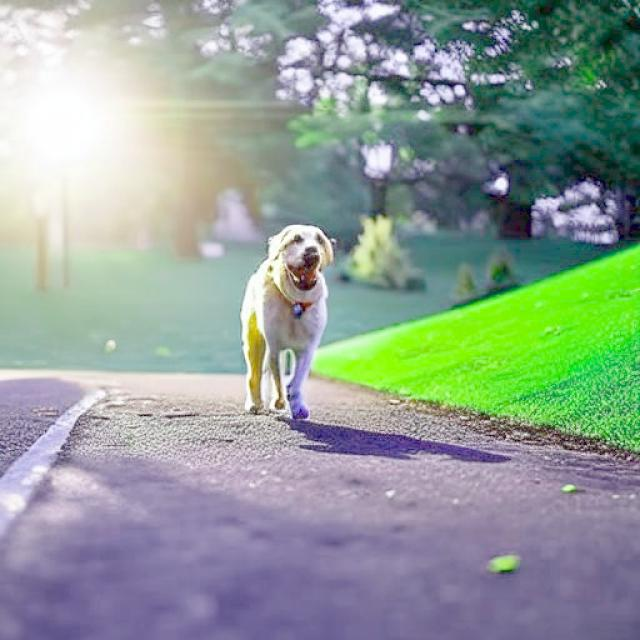Dog: (240, 225, 334, 422)
